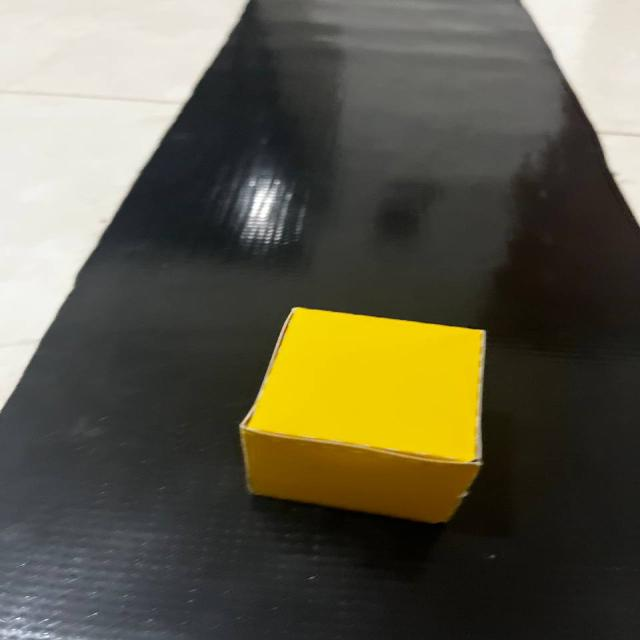Amarillo: (222, 292, 504, 537)
